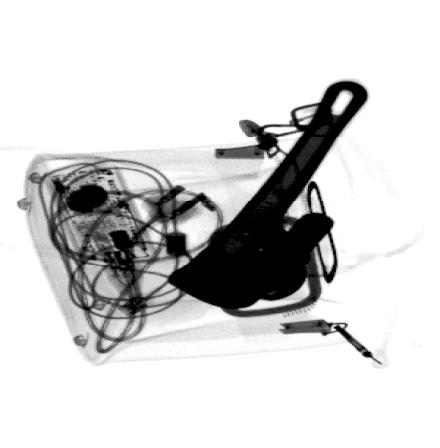Wrench: (163, 78, 374, 314)
